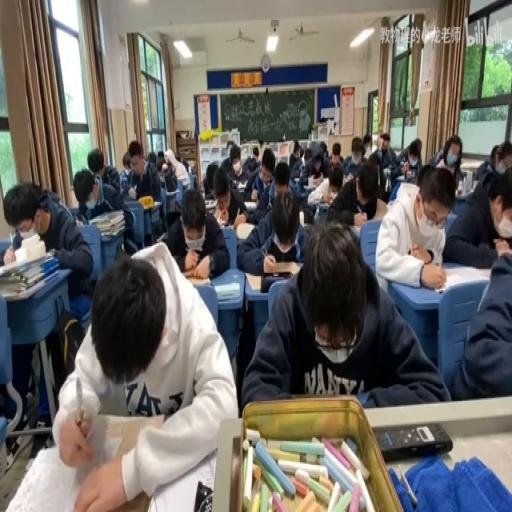calculator: (148, 445, 220, 512), (242, 263, 301, 290), (88, 208, 125, 238), (442, 264, 492, 286), (213, 282, 241, 300), (235, 219, 255, 240), (208, 213, 240, 226), (184, 272, 211, 284), (298, 180, 316, 194), (204, 196, 217, 208), (175, 174, 188, 184), (316, 201, 330, 209), (243, 201, 256, 209), (237, 179, 247, 189), (166, 186, 178, 194), (150, 198, 161, 206), (395, 174, 405, 179), (293, 178, 300, 183)
paper: (56, 240, 238, 508), (241, 220, 445, 412), (2, 178, 93, 300), (443, 155, 512, 270), (237, 179, 312, 273), (164, 186, 230, 280), (122, 138, 164, 240), (324, 158, 386, 226), (430, 135, 465, 188), (86, 145, 120, 196), (368, 131, 398, 183), (298, 139, 330, 185), (394, 136, 419, 184), (234, 144, 258, 180), (394, 179, 420, 205), (272, 161, 290, 196), (202, 161, 218, 196), (288, 141, 302, 169), (350, 142, 365, 168), (261, 151, 275, 176), (330, 142, 342, 171), (487, 144, 500, 169), (220, 155, 234, 176), (330, 168, 342, 192), (154, 150, 166, 170), (122, 150, 132, 174), (119, 168, 129, 190), (318, 141, 328, 158), (179, 154, 189, 170), (302, 148, 312, 163), (146, 150, 156, 164), (362, 136, 372, 150), (379, 136, 389, 150), (414, 139, 422, 155), (252, 144, 259, 158), (226, 138, 234, 149)
person: (374, 420, 451, 460)
